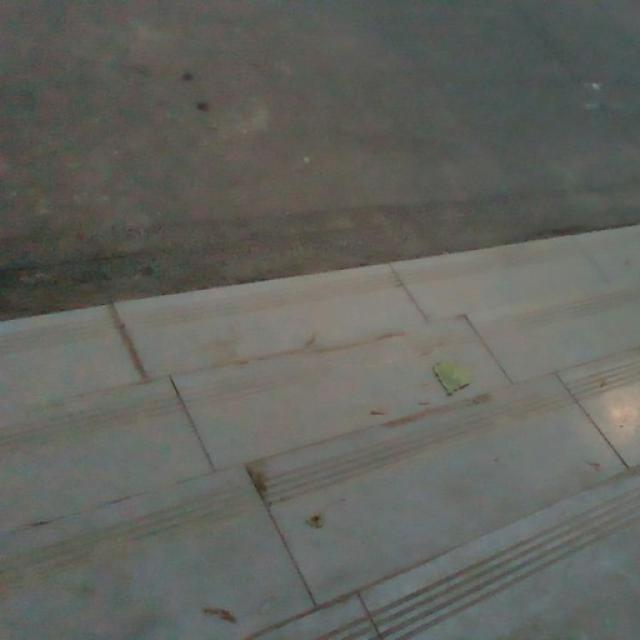stair: (0, 222, 629, 574)
